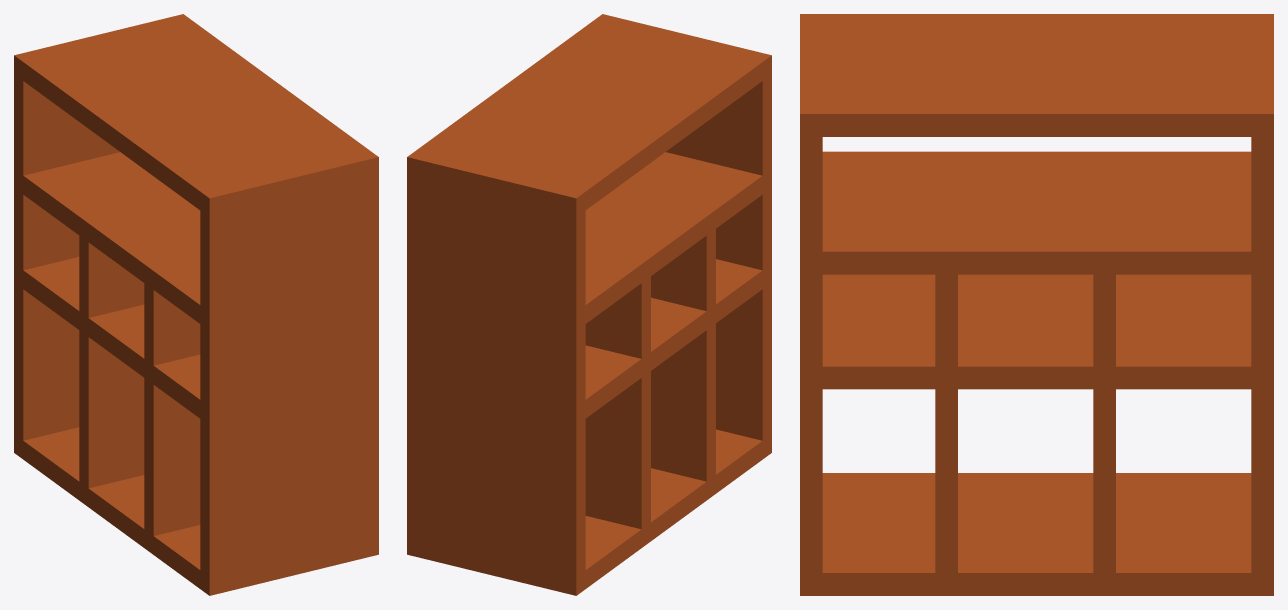
File: alexc_bookshelf.fbx
3 renders of one model, left to right at view 1: azimuth 30°, elevation 25°; view 2: azimuth 150°, elevation 25°; view 3: azimuth 270°, elevation 25°, orthographic. The views are drawn at different scales.
Parts seen in each view (by area): view 1: bookshelf; view 2: bookshelf; view 3: bookshelf.
Part boxes in pixels (x1,y1,x2,y2): bookshelf: (14, 14, 378, 595); bookshelf: (407, 14, 771, 595); bookshelf: (800, 14, 1273, 595).
Bounding box in the file's own units: 400 × 800 × 898.
